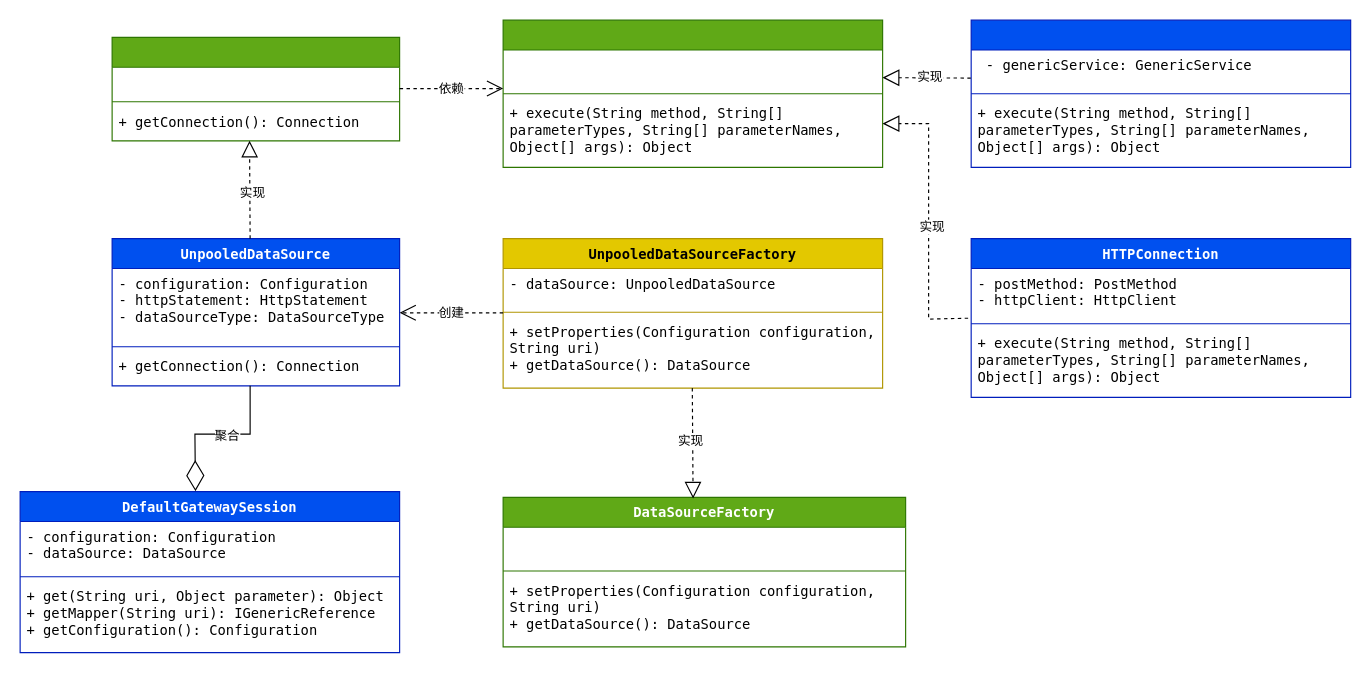
This 1371x676 diagram has some shape labels left out. Each missing label, with the box of its shape:
Connection: (502, 19, 883, 167)
DataSource: (111, 36, 400, 141)
DubboConnection: (970, 19, 1351, 167)
